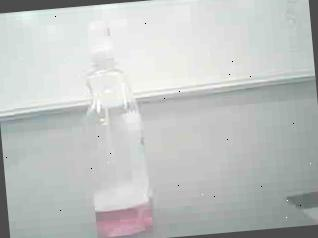hazard: (64, 7, 169, 238)
